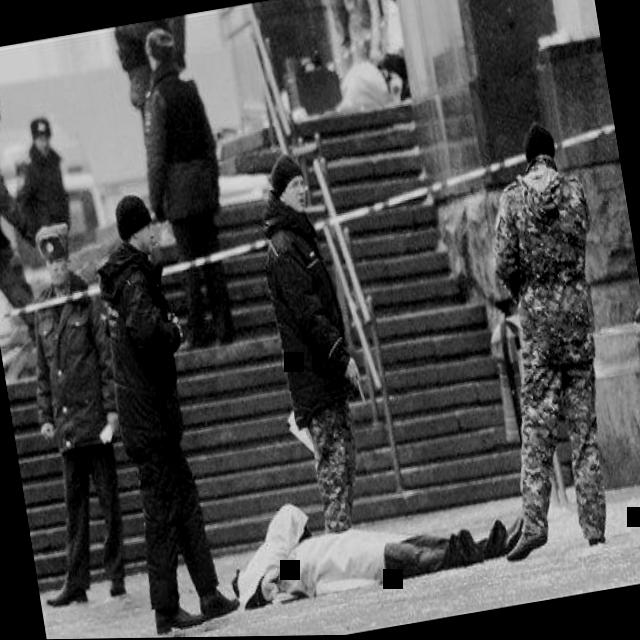Fall-Detected: (210, 464, 518, 621)
